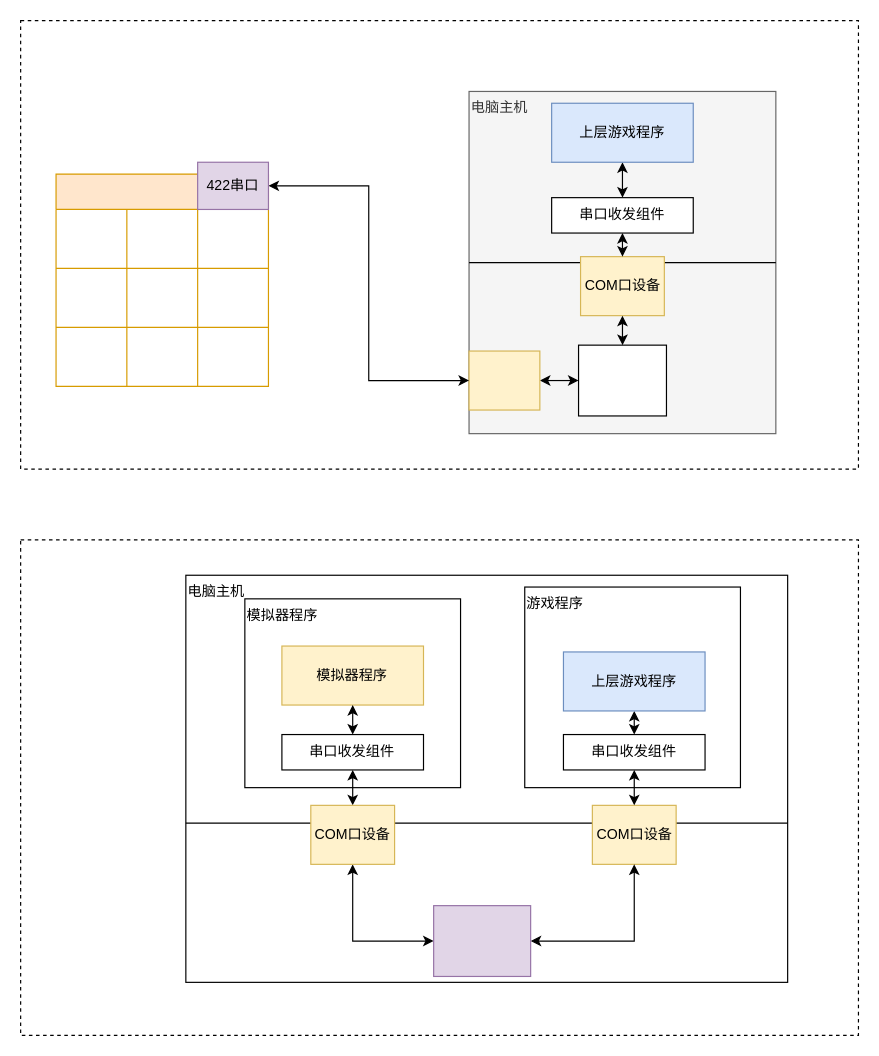
Some shapes in this 879 by 1056 pixel diagram are drawn without their labels. Here are the shapes that lost their labels. From the top down, the box of each, then its label:
(19, 19, 858, 469): 实物连接
(55, 173, 268, 386): 方格
(468, 350, 540, 410): USB口
(577, 344, 666, 416): usb串口驱动程序
(19, 539, 858, 1035): 仿真方案
(432, 904, 531, 976): 虚拟串口对驱动
